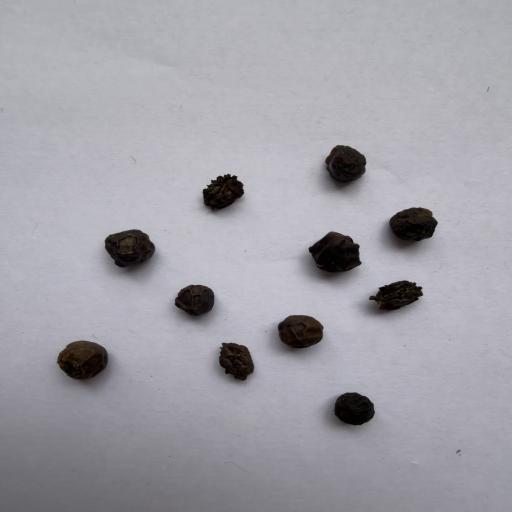Black_pepper: (378, 179, 459, 248), (80, 204, 169, 265), (290, 212, 371, 279), (260, 297, 345, 354), (53, 329, 124, 384), (328, 378, 378, 441), (326, 125, 378, 181), (166, 270, 228, 314)
papaya_seed: (173, 144, 258, 222), (365, 278, 447, 322), (209, 332, 260, 385)
